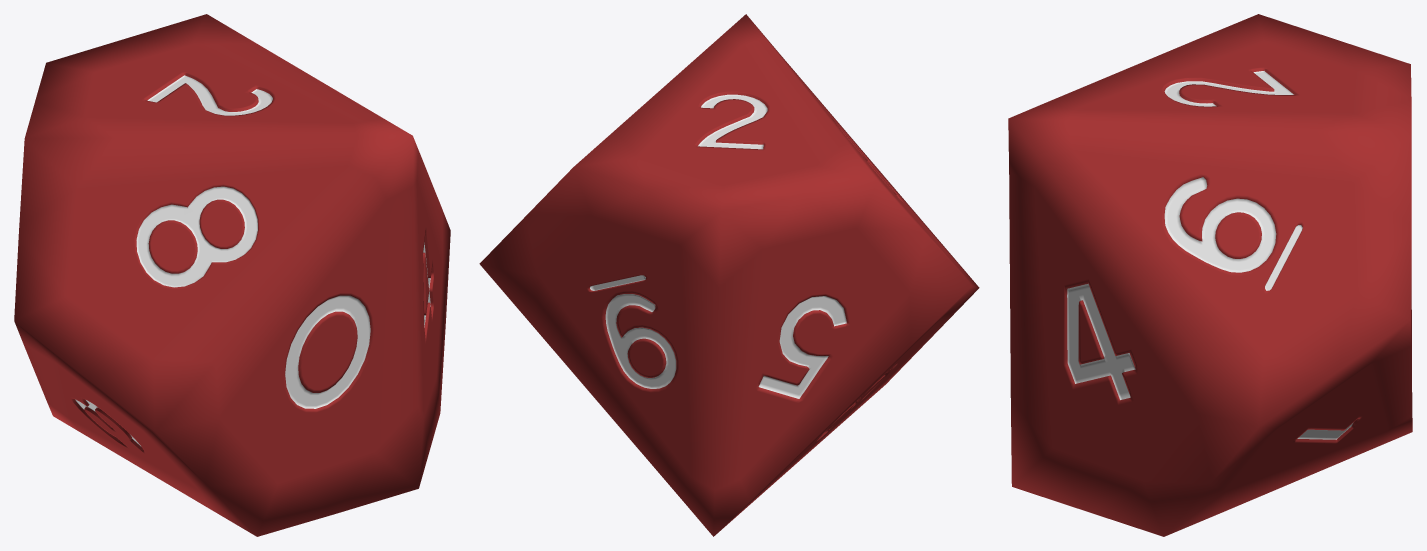
File: die_10.dae
3 renders of one model, left to right at view 1: azimuth 30°, elevation 25°; view 2: azimuth 150°, elevation 25°; view 3: azimuth 270°, elevation 25°, orthographic. The views are drawn at different scales.
Parts seen in each view (by area): view 1: Die10; view 2: Die10; view 3: Die10.
Part boxes in pixels (x1,y1,x2,y2): Die10: (14, 14, 450, 536); Die10: (479, 14, 979, 536); Die10: (1008, 14, 1412, 536).
Size of the model in its own units: 1.57 by 1.2 by 1.11.
